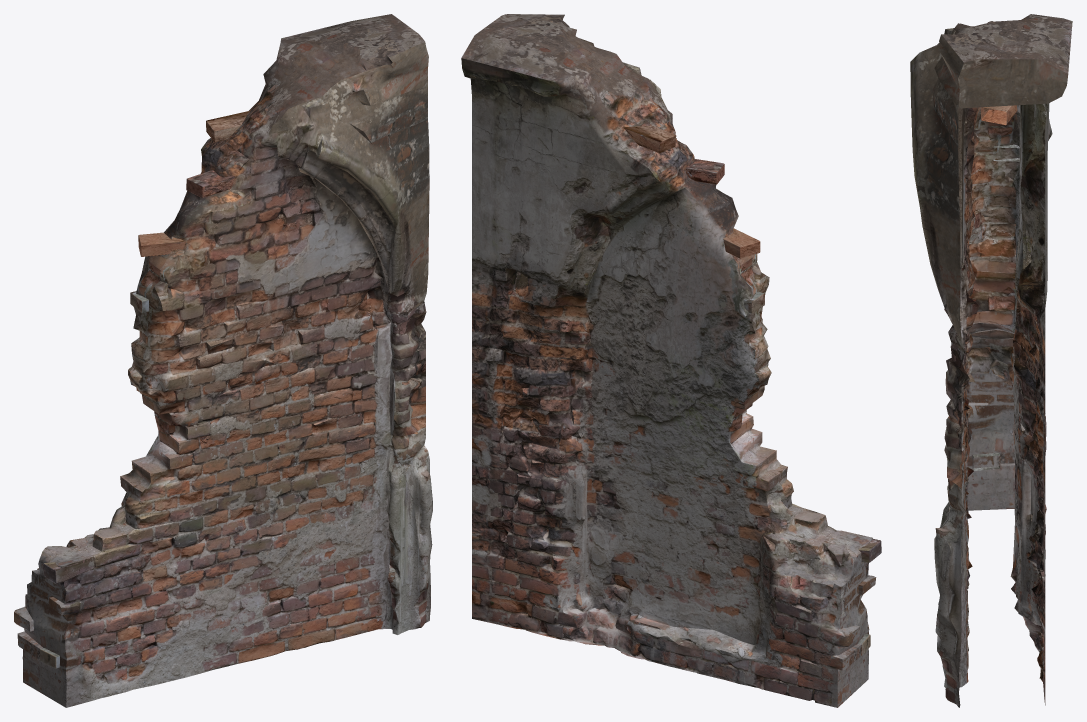
Rendered from SM_ChapelWall_02_09.fbx.
3 renders of one model, left to right at view 1: azimuth 30°, elevation 25°; view 2: azimuth 150°, elevation 25°; view 3: azimuth 270°, elevation 25°, orthographic. The views are drawn at different scales.
Parts seen in each view (by area): view 1: sm_ChapelWall_02_09_LOD0; view 2: sm_ChapelWall_02_09_LOD0; view 3: sm_ChapelWall_02_09_LOD0.
Part boxes in pixels (box(x1,y1,x2,y2)): sm_ChapelWall_02_09_LOD0: box(14, 14, 432, 707); sm_ChapelWall_02_09_LOD0: box(461, 14, 881, 707); sm_ChapelWall_02_09_LOD0: box(910, 14, 1072, 707).
Bounding box in the file's own units: 90.62 × 272 × 399.
